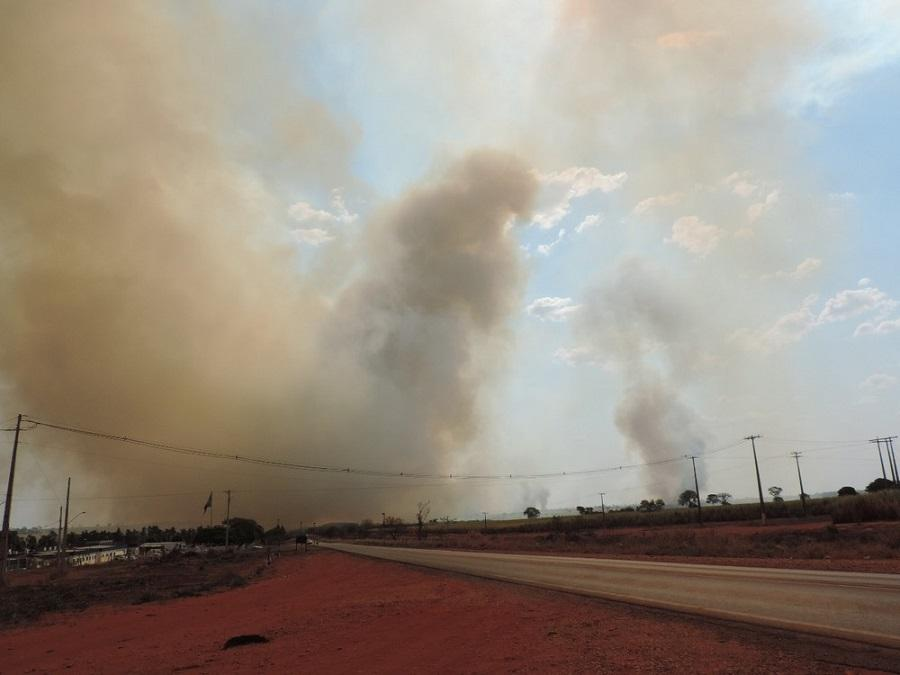smoke: (57, 265, 282, 438), (17, 38, 197, 228), (320, 338, 452, 500), (392, 208, 515, 313)
